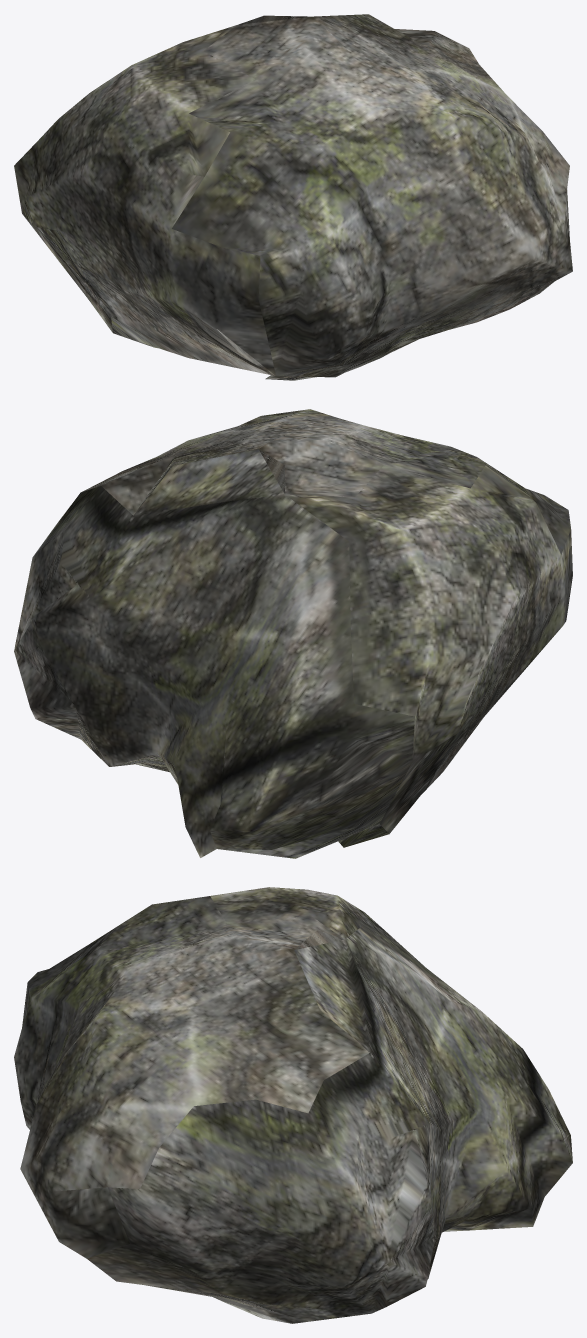
Rendered from rock3_LOD2.FBX.
The picture shows the model from 3 angles, top to bottom: view 1: azimuth 30°, elevation 25°; view 2: azimuth 150°, elevation 25°; view 3: azimuth 270°, elevation 25°; orthographic projection. The views are drawn at different scales.
Visible parts, largest first — view 1: rock3_LOD2; view 2: rock3_LOD2; view 3: rock3_LOD2.
Part boxes in pixels (x1,y1,x2,y2): rock3_LOD2: [14, 14, 572, 380]; rock3_LOD2: [14, 409, 572, 858]; rock3_LOD2: [14, 887, 572, 1323].
Size of the model in its own units: 124 by 87.5 by 133.
